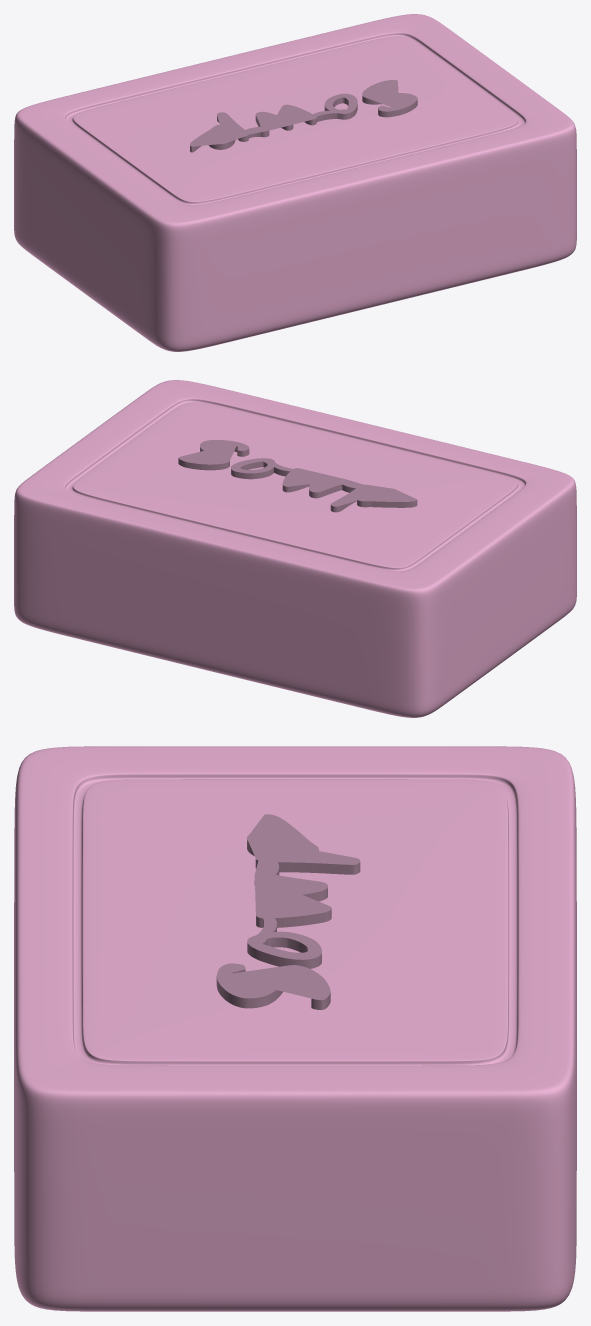
The model's file is Soap.fbx.
The picture shows the model from 3 angles, top to bottom: view 1: azimuth 30°, elevation 25°; view 2: azimuth 150°, elevation 25°; view 3: azimuth 270°, elevation 25°; orthographic projection. The views are drawn at different scales.
Visible parts, largest first — view 1: pCube199, typeMesh1; view 2: pCube199, typeMesh1; view 3: pCube199, typeMesh1.
Part boxes in pixels (x1,y1,x2,y2): pCube199: (14, 14, 576, 351); typeMesh1: (190, 80, 417, 152); pCube199: (14, 380, 576, 717); typeMesh1: (178, 440, 417, 512); pCube199: (14, 746, 576, 1311); typeMesh1: (216, 814, 360, 1009).
Bounding box in the file's own units: 0.3912 × 0.1244 × 0.2648.
